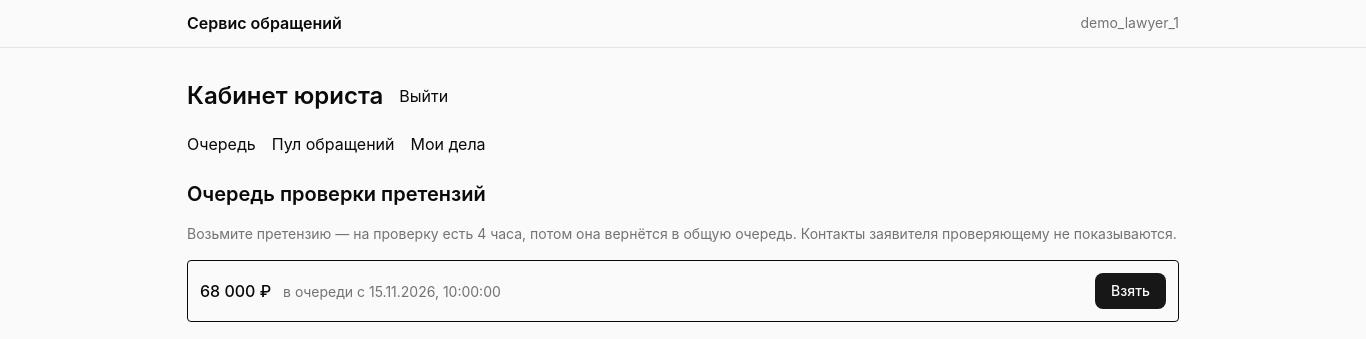
Test: F6 queue and review › drops a claim taken by another lawyer from the list
Expected: the text "68 000 ₽" is shown, [200,281,271,301]
Click the button "Взять": (1130, 291) [1095,273,1166,309]
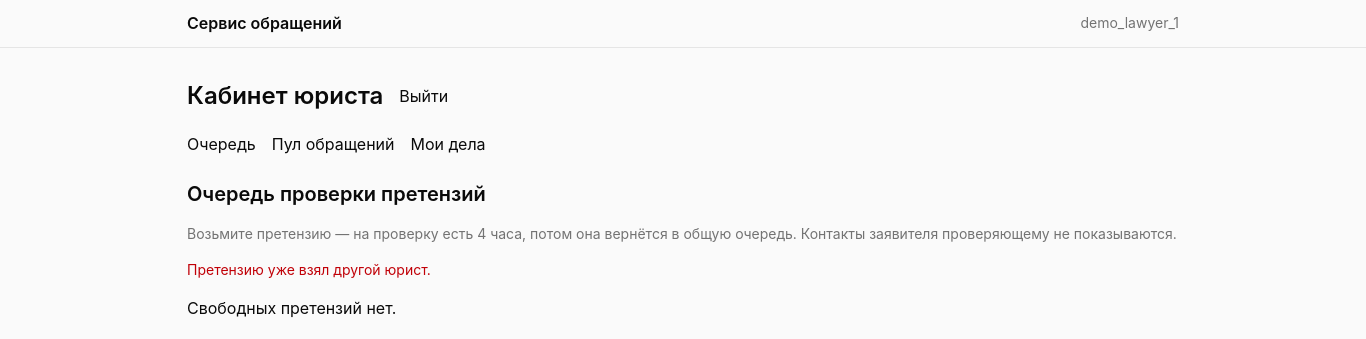
Result: the text "Претензию уже взял другой юрист." is shown at [187,261,431,278]
Result: the text "Свободных претензий нет." is shown at [187,298,396,318]
